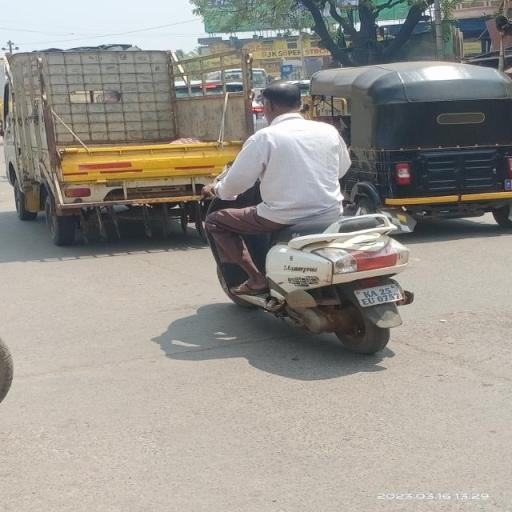bike: (201, 74, 420, 360)
numberplate: (352, 272, 408, 312)
withouthelmet: (257, 82, 303, 116)
